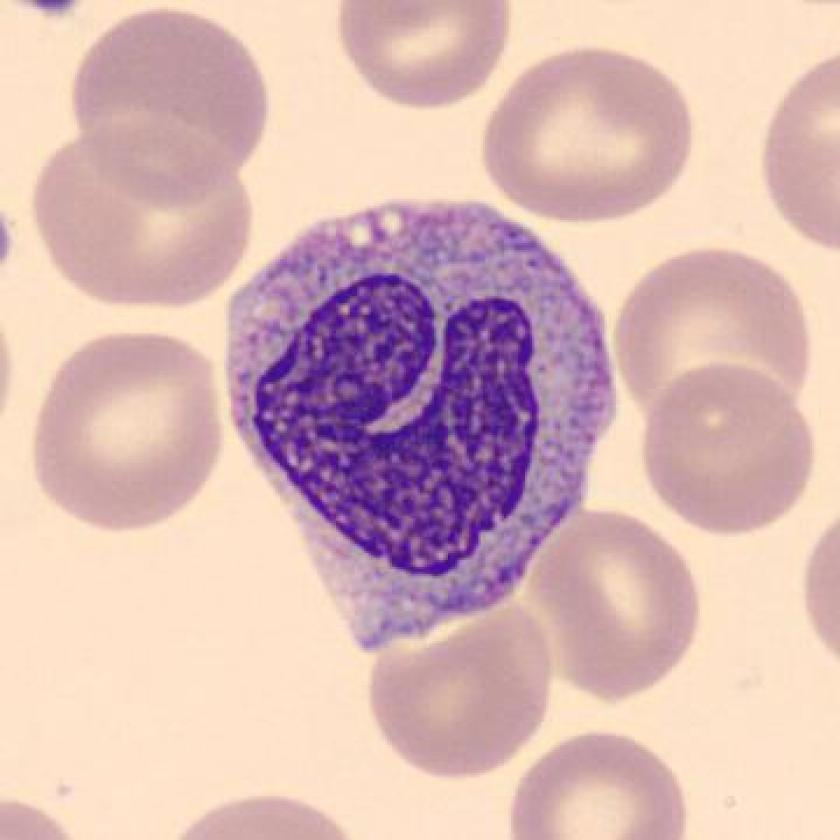monocyte: (202, 184, 631, 674)
